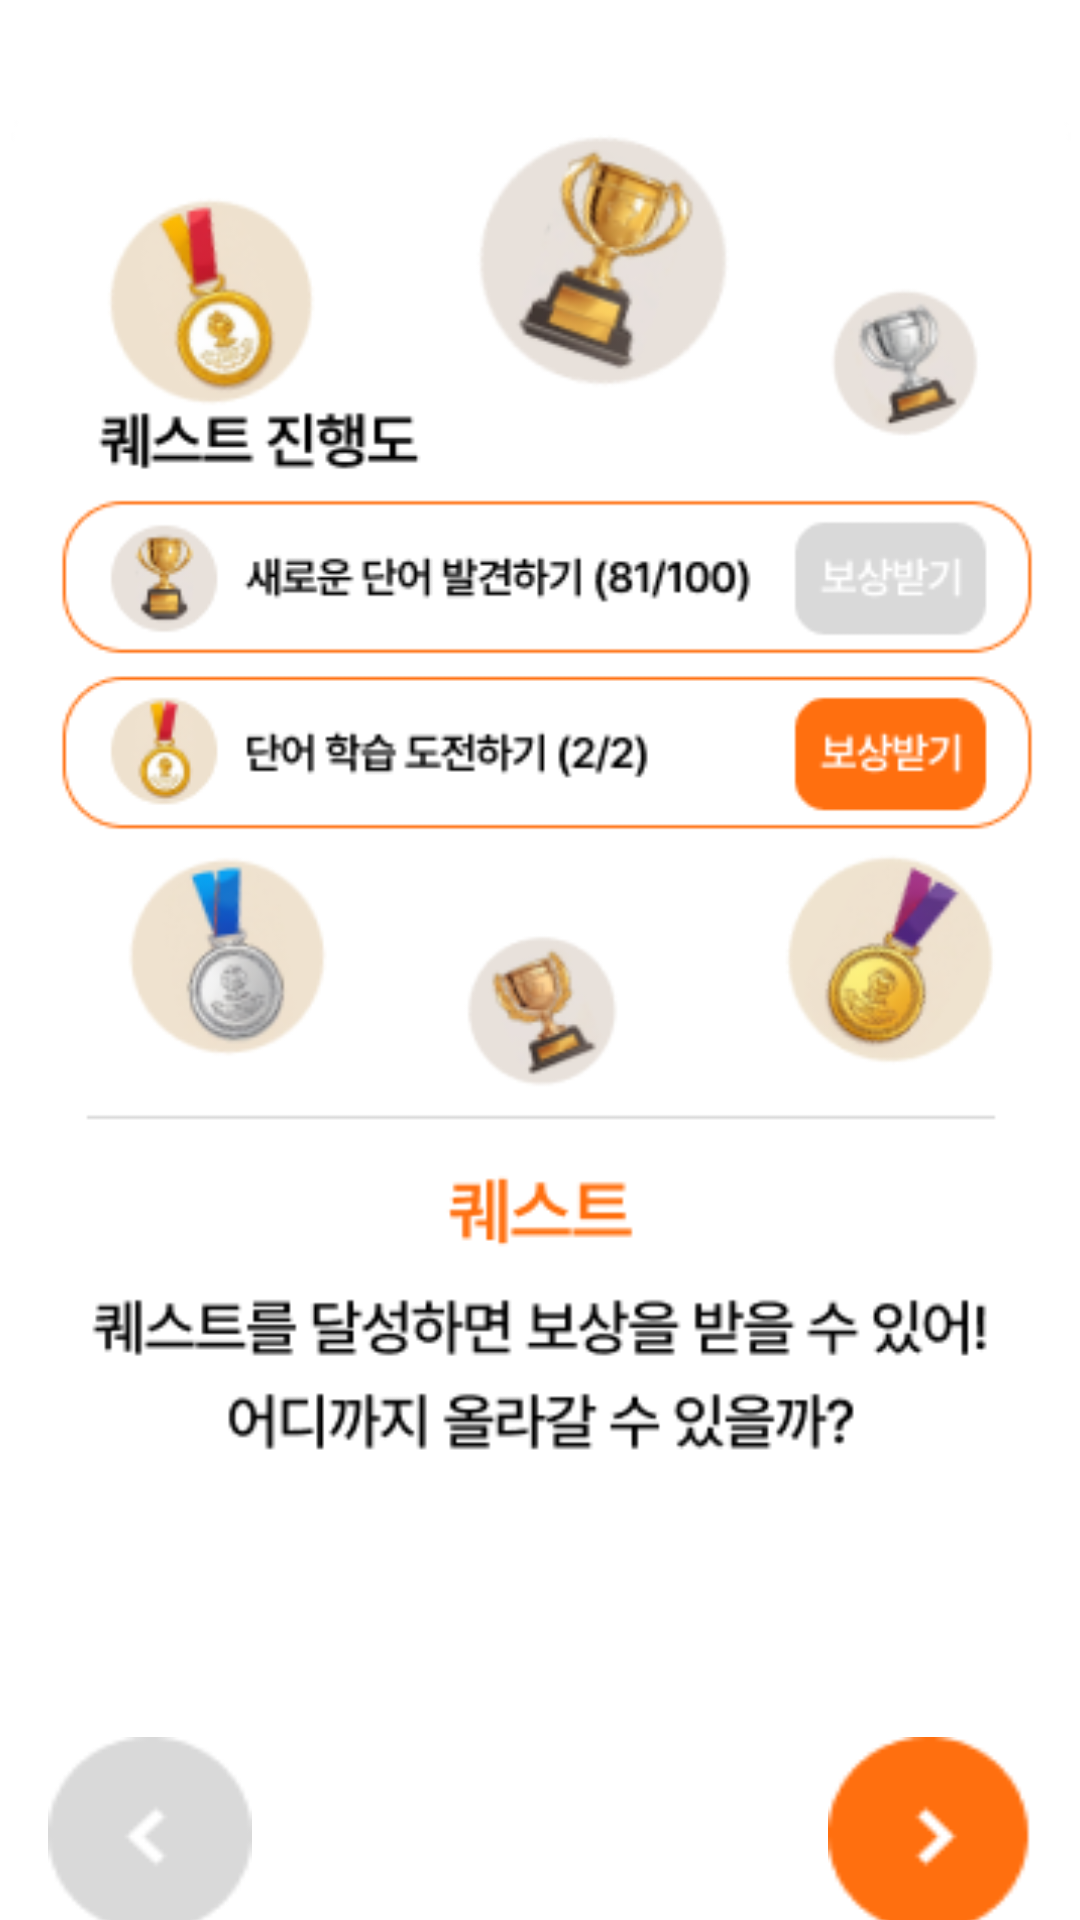

Named icons in this screenshot (1080w x 1920h) and their centers, (x,y):
before3: (150,1828)
next4: (929,1828)
